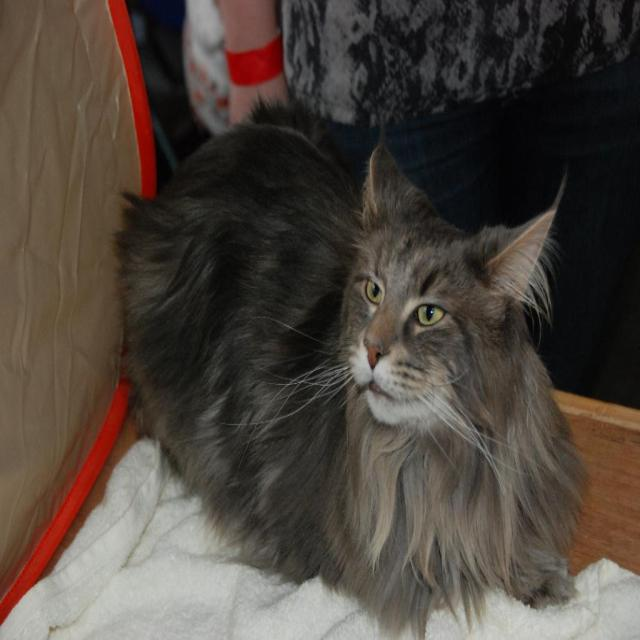Cat: (107, 108, 601, 638)
